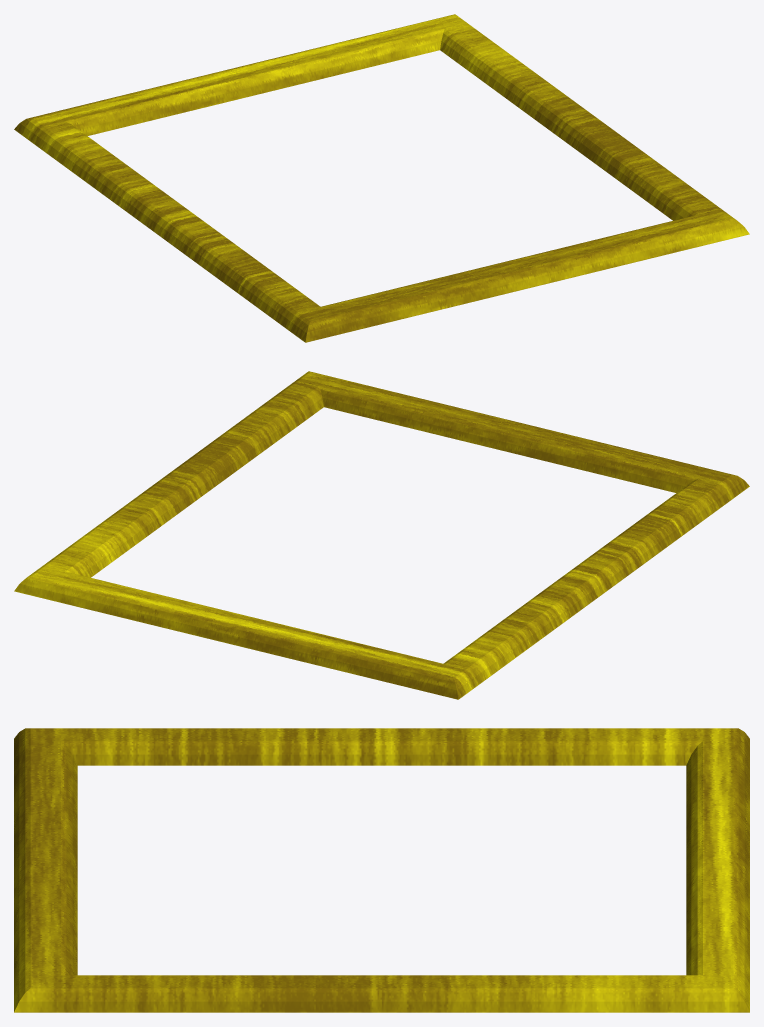
File: frame.fbx
The picture shows the model from 3 angles, top to bottom: view 1: azimuth 30°, elevation 25°; view 2: azimuth 150°, elevation 25°; view 3: azimuth 270°, elevation 25°; orthographic projection. The views are drawn at different scales.
Parts seen in each view (by area): view 1: Plane; view 2: Plane; view 3: Plane.
Boxes of the visible parts, x1,y1,x2,y2 form: Plane: (14,14,749,342); Plane: (14,371,749,699); Plane: (14,728,749,1012).
Size of the model in its own units: 2103 by 62.23 by 2389.
1 material, 1 textured.
